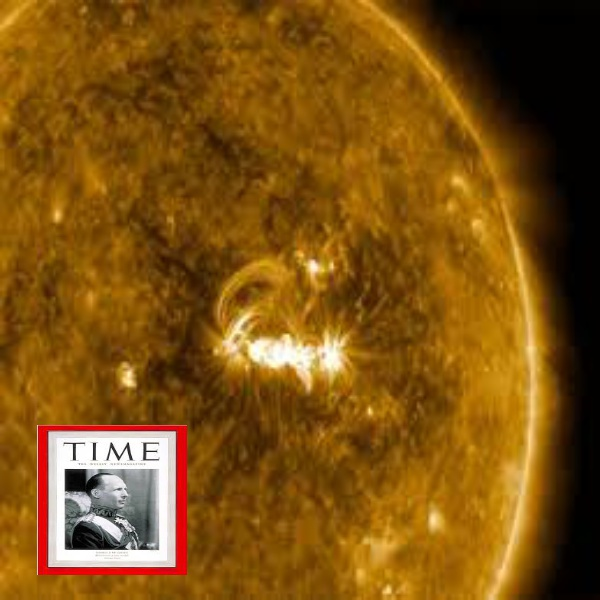time_cover: (33, 417, 192, 573)
